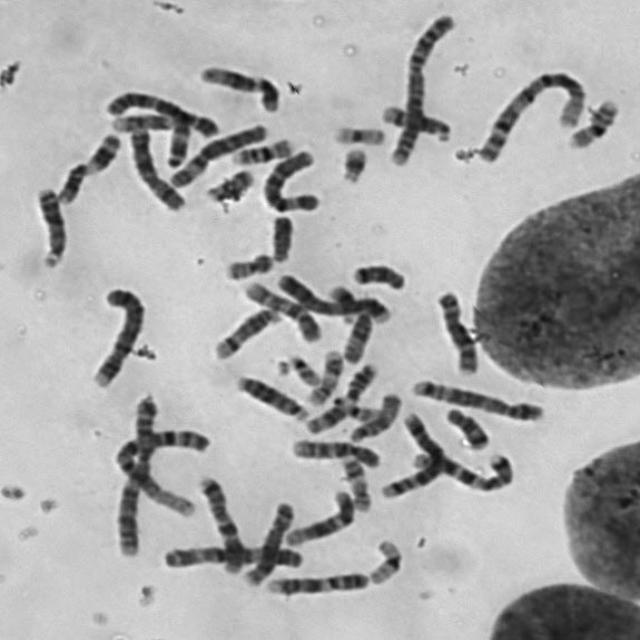A1: (106, 419, 211, 557), (470, 61, 591, 165)
A2: (107, 420, 212, 558), (383, 5, 460, 168)
A3: (99, 82, 194, 169), (155, 536, 307, 572)
B4: (272, 266, 396, 325), (84, 280, 148, 390)
B5: (405, 371, 548, 424), (375, 405, 449, 500)
C10: (236, 273, 324, 344), (283, 430, 385, 470)
C11: (298, 356, 382, 435), (50, 125, 123, 206)
C12: (278, 482, 358, 548), (191, 57, 283, 114)
C6: (162, 115, 270, 189), (256, 141, 324, 213)
C7: (189, 468, 248, 577), (405, 444, 519, 493)
C8: (238, 494, 298, 588), (428, 282, 482, 377)
C9: (104, 104, 222, 138), (259, 564, 374, 598)
D13: (228, 368, 312, 423), (27, 180, 69, 270)
D14: (207, 300, 283, 362), (375, 96, 455, 144)
D15: (342, 386, 404, 444), (336, 304, 375, 365)
E16: (561, 90, 622, 151), (226, 130, 297, 167)
E17: (302, 342, 346, 407), (335, 449, 374, 514)
E18: (439, 399, 493, 451), (346, 256, 410, 292)
F19: (362, 531, 406, 587), (327, 118, 390, 146)
F20: (200, 162, 258, 203), (218, 245, 276, 281)
G21: (334, 140, 371, 185), (323, 278, 359, 324)
G22: (277, 347, 323, 388), (325, 390, 380, 422)
X: (122, 121, 190, 212)
Y: (264, 208, 297, 263)
